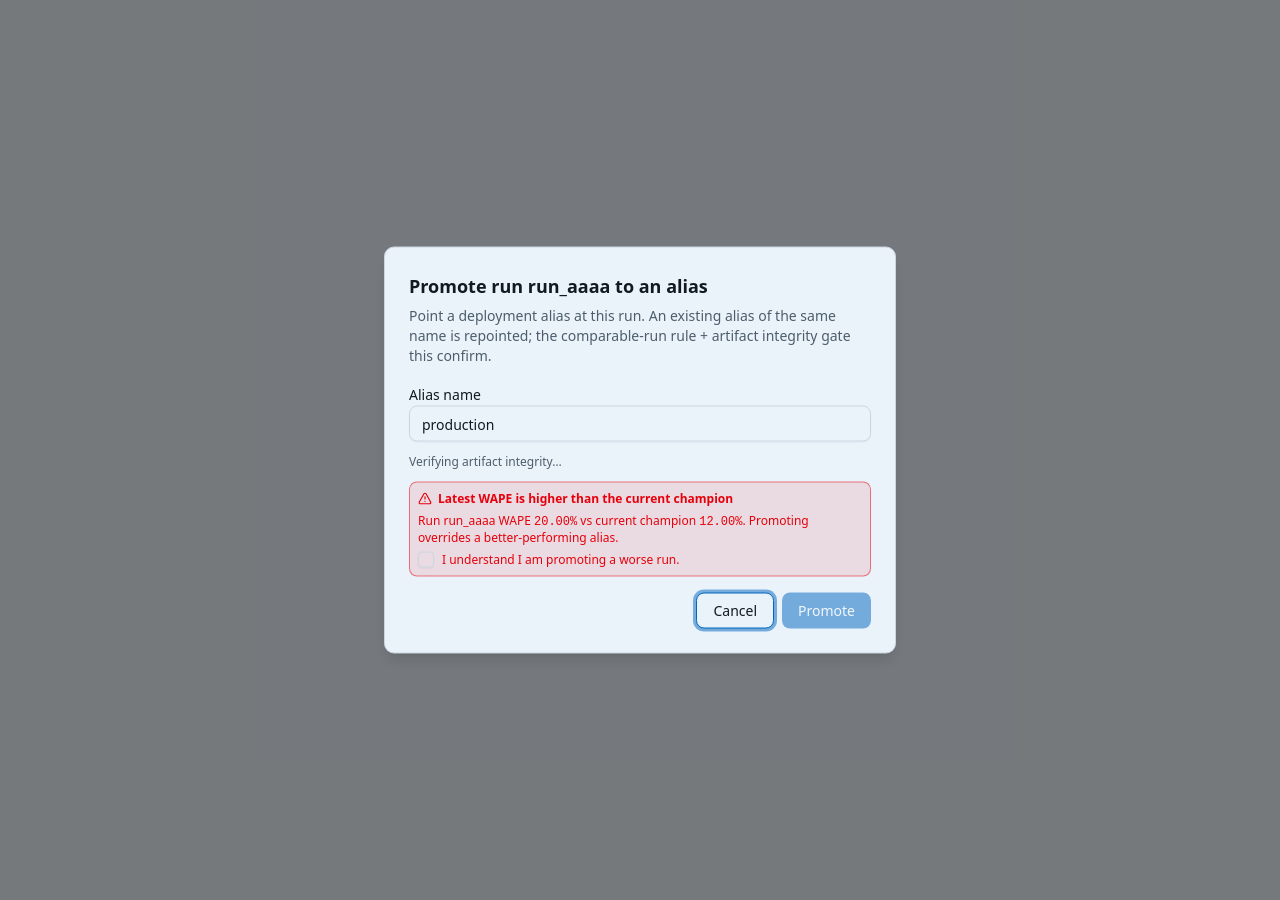
it: PromoteConfirmationDialog › requires the worse-WAPE checkbox when latest WAPE > champion WAPE
Check: the element with test id "promote-confirmation-worse-wape" is shown, box [409,482,871,576]
Check: the button with test id "promote-confirmation-action" is disabled, box [782,592,871,628]
// Acknowledge → action enabled.
Click the checkbox with test id "promote-confirmation-worse-ack" at (426, 560), box [418,552,434,568]
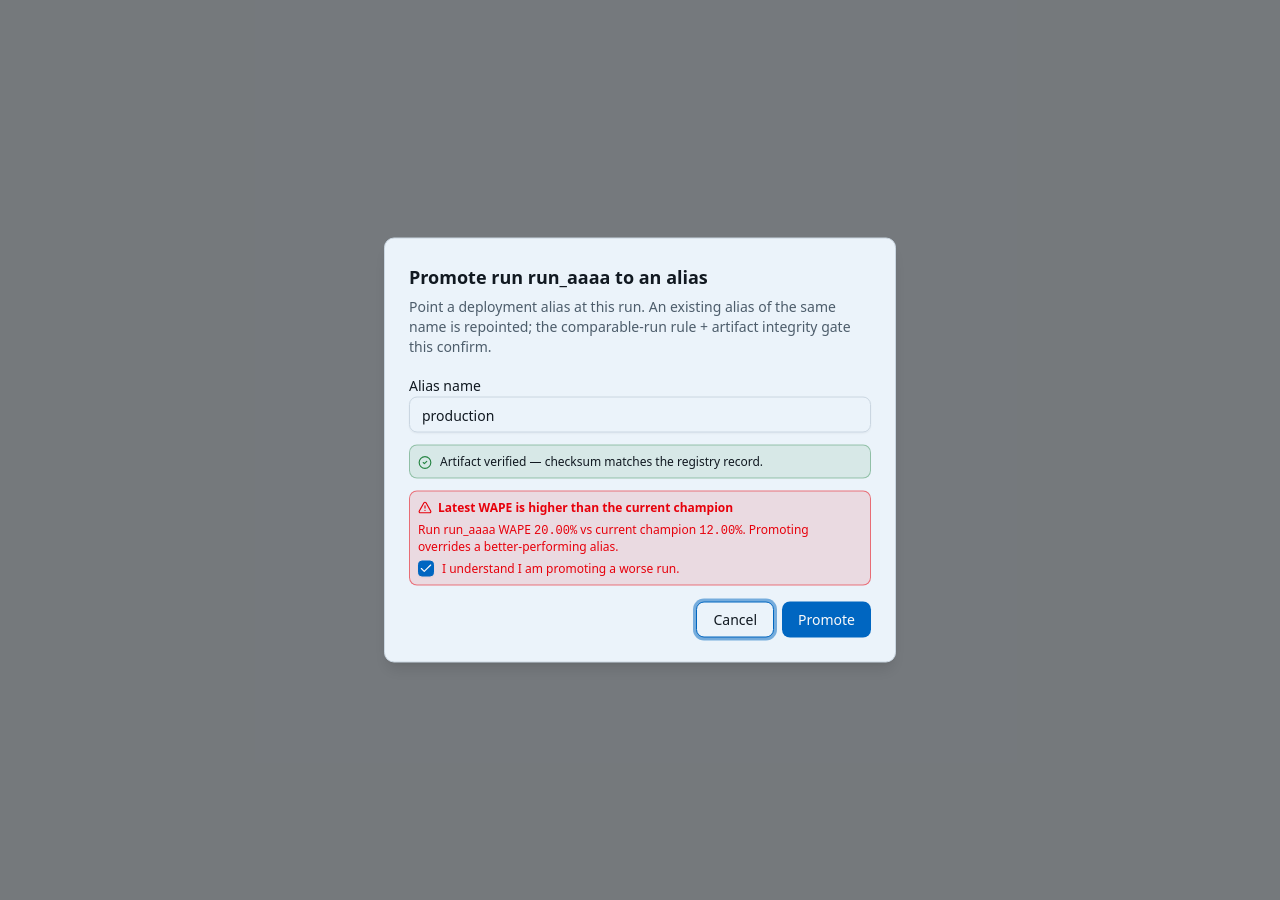
Check: the button with test id "promote-confirmation-action" is enabled, box [782,602,871,638]
